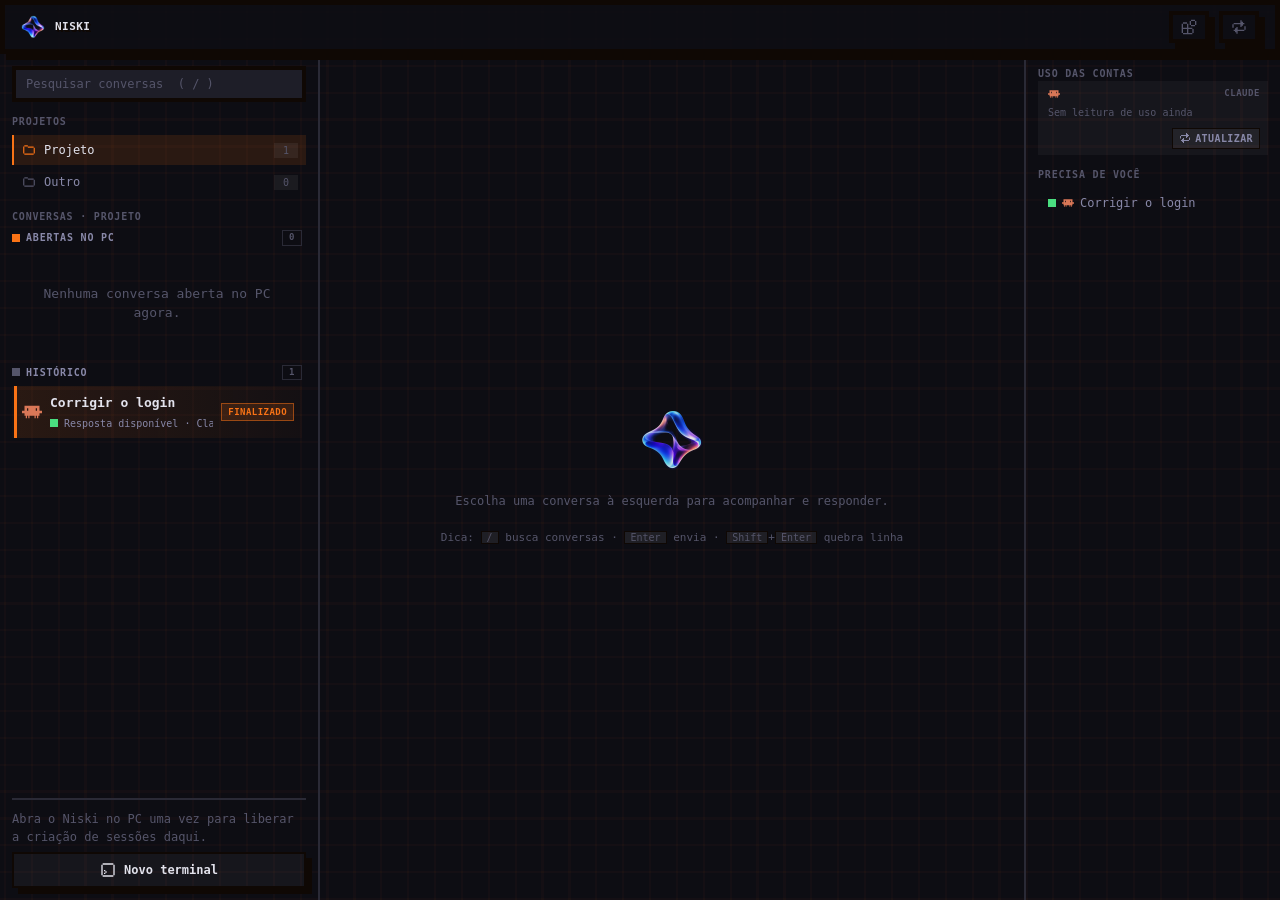
Test: cria um terminal sem agente no projeto, abre no centro e fecha
expect the button "Projeto 1" is shown: met, box [12, 135, 306, 165]
Click the button "Novo terminal": (159, 870) [12, 852, 306, 888]
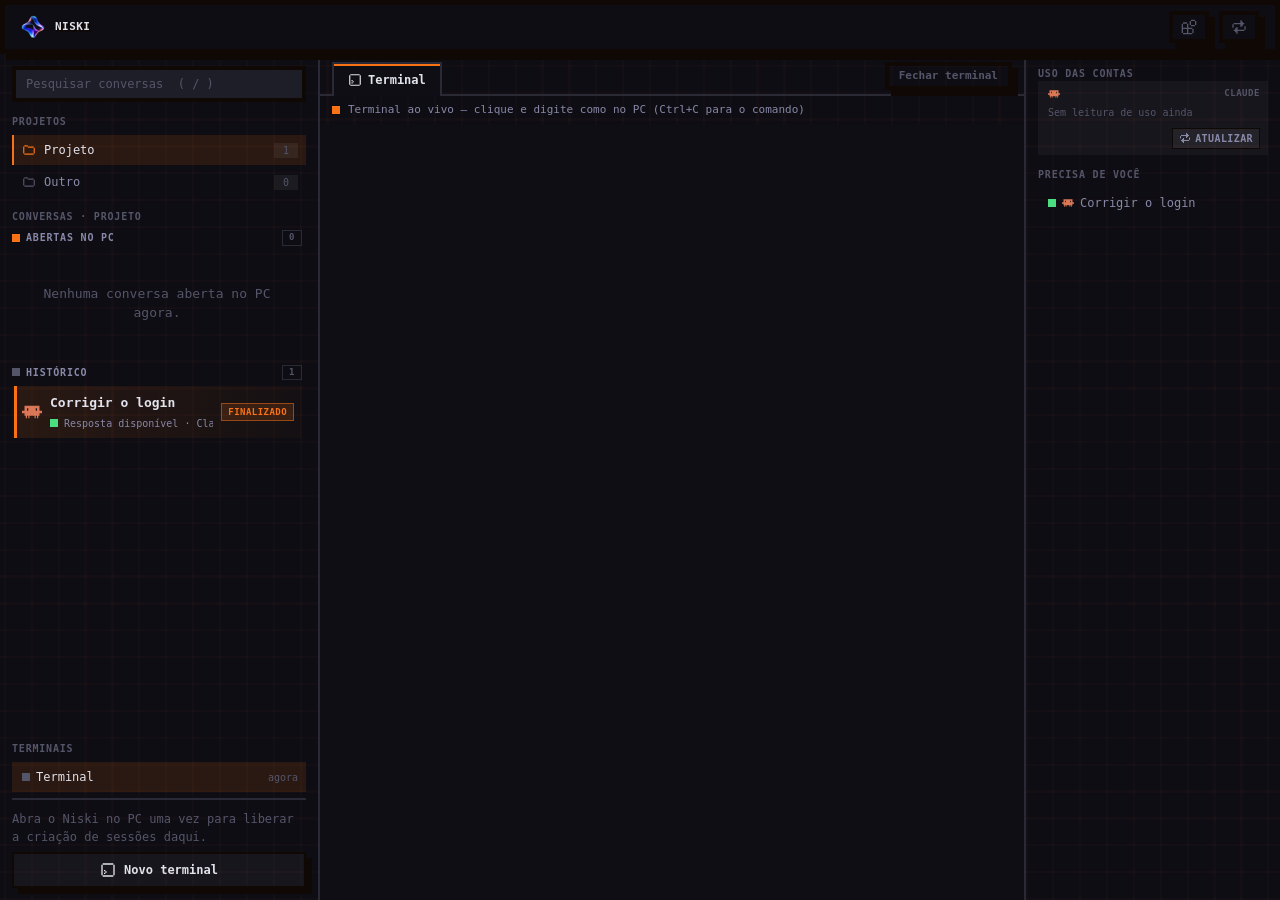
expect the button "Fechar terminal" is shown: met
Click the button "Fechar terminal": (948, 76) [885, 62, 1012, 90]
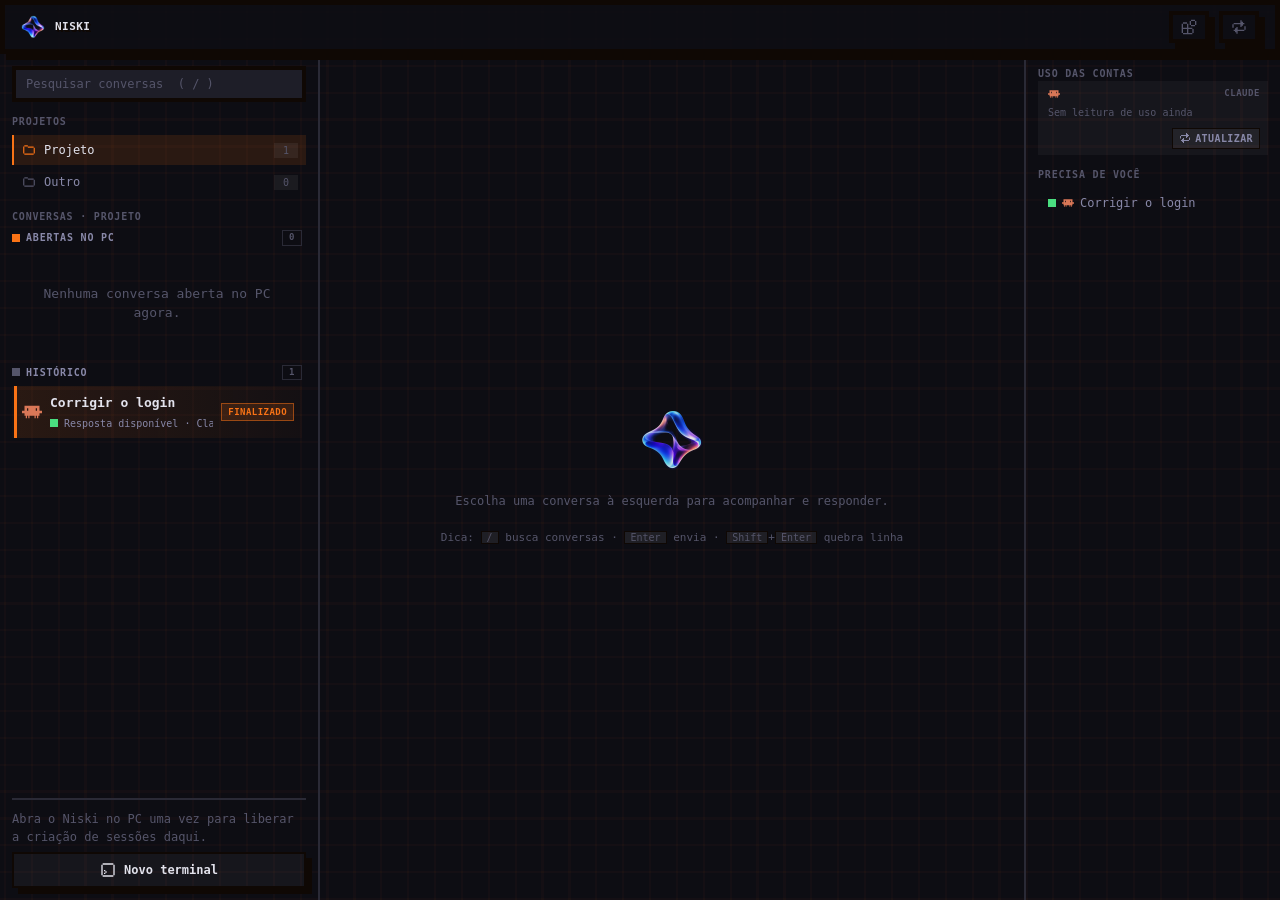
expect the button "Fechar terminal" is gone: met
